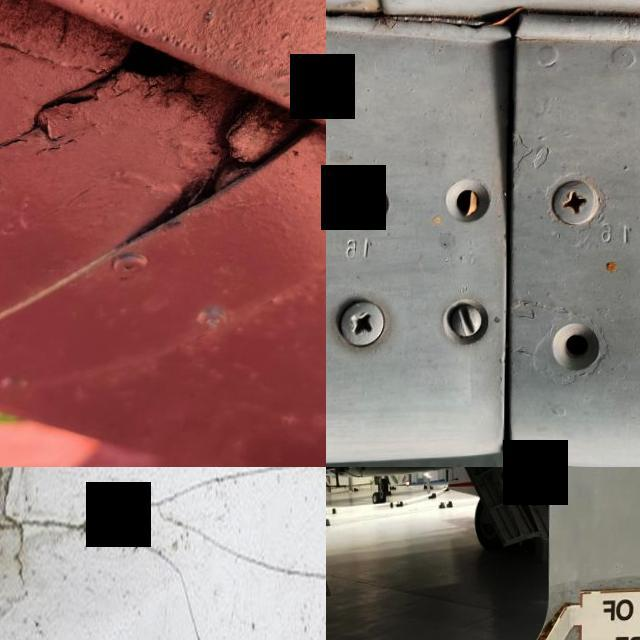Crack: (0, 467, 326, 640), (16, 22, 212, 164), (156, 513, 326, 587)
Missing_Fastener: (519, 294, 632, 402), (326, 163, 418, 261)
